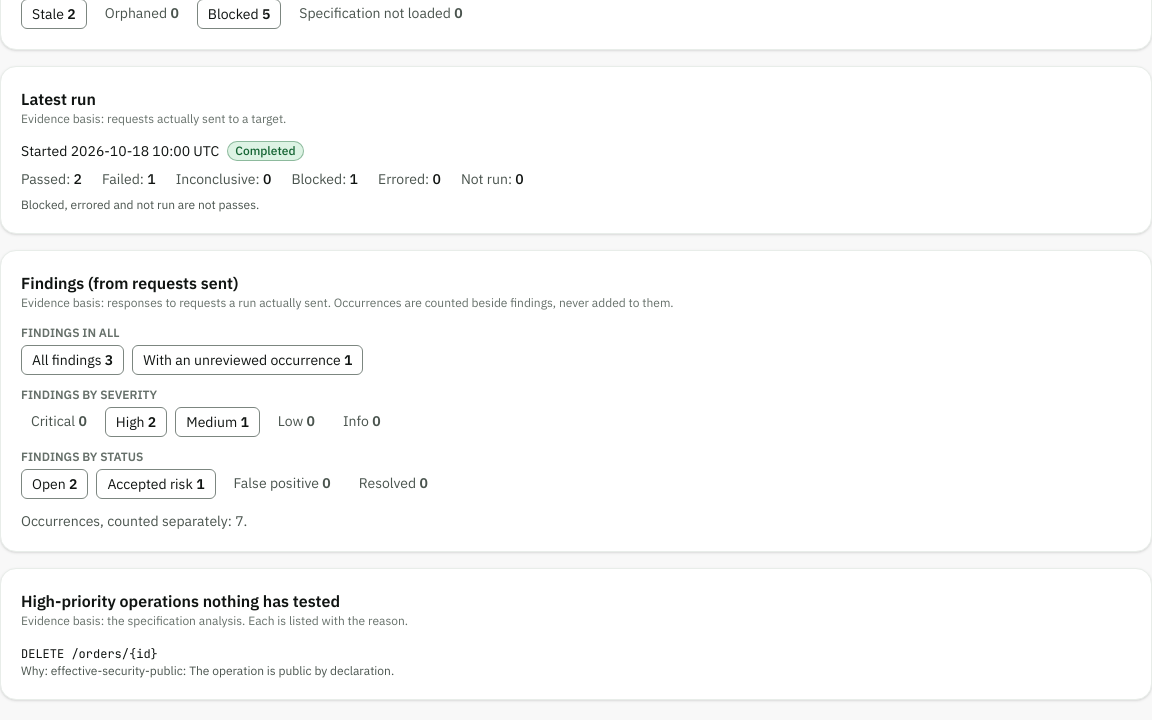
Test: opening the list behind a count (SC-012) › opens the findings with an unreviewed occurrence with the same total, and puts focus there
The width and height of the screenshot is (1152, 720).
(page scrolled)
Click the button "With an unreviewed occurrence 1": (248, 360) [132,345,363,375]
(page scrolled)
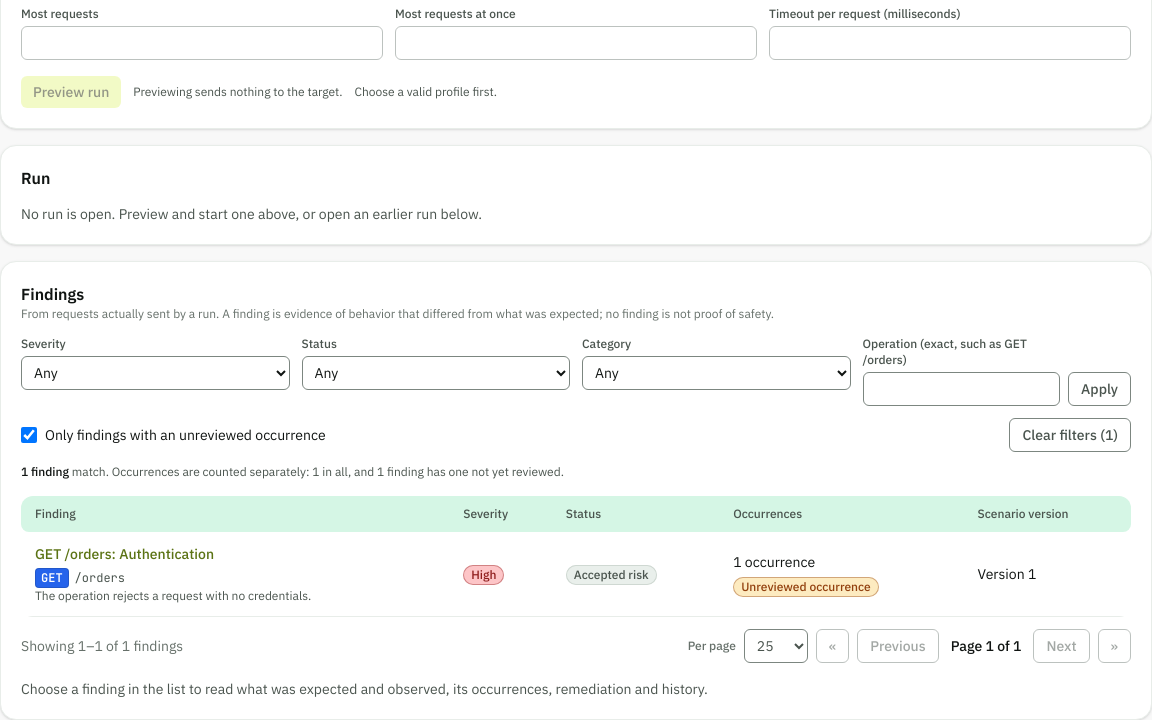
Check: the element with test id "finding-counts" shows "1 finding match.", box [21,464,564,479]
